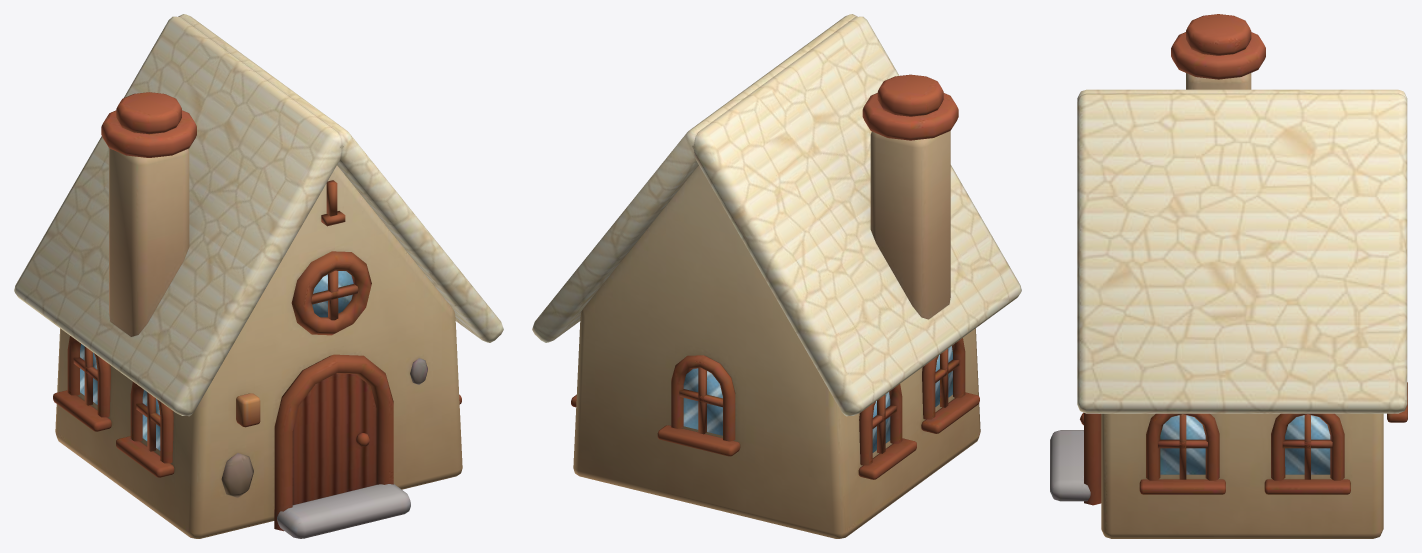
The model's file is hut_mid.glb.
3 renders of one model, left to right at view 1: azimuth 30°, elevation 25°; view 2: azimuth 150°, elevation 25°; view 3: azimuth 270°, elevation 25°, orthographic.
Visible parts, largest first — view 1: hut; view 2: hut; view 3: hut.
Boxes of the visible parts, box(x1,y1,x2,y2) form: hut: box(14, 14, 503, 538); hut: box(532, 14, 1021, 538); hut: box(1050, 14, 1407, 538).
Bounding box in the file's own units: 1.28 × 1.45 × 1.2.
Materials: 1 (1 with a texture image).
